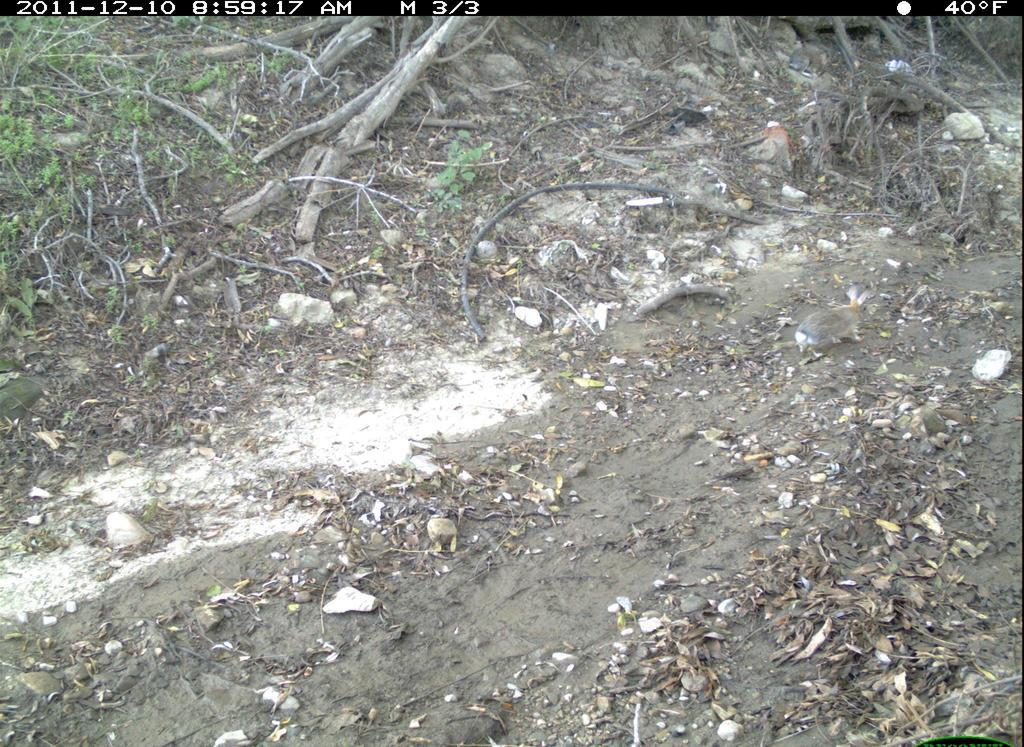rabbit: (792, 280, 881, 363)
